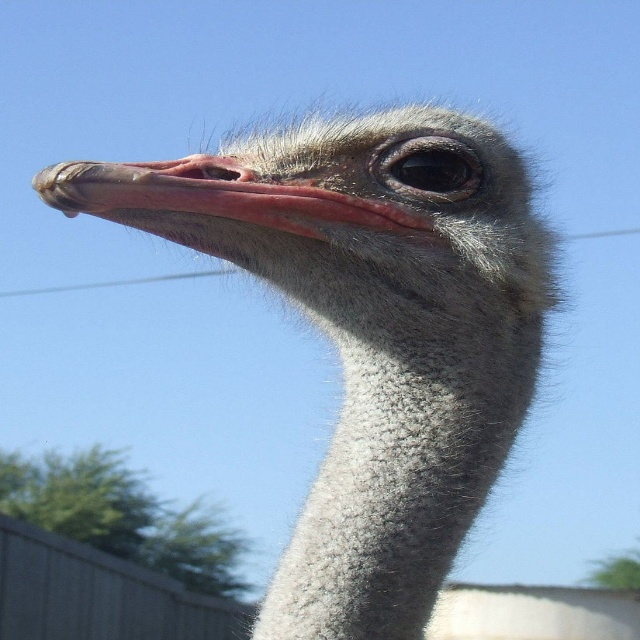Ostrich: (29, 100, 574, 639)
